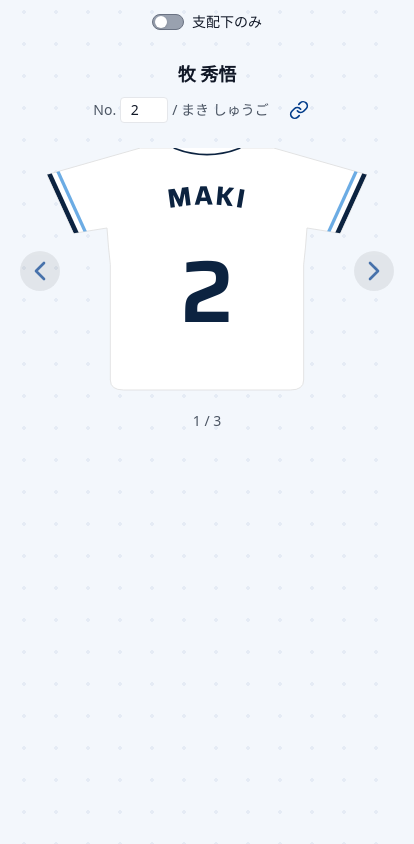
it: UniformViewer › navigates to previous player on left arrow click
Step 1. Click the button named "前の選手" → (110, 271), box top-left (12, 148), bottom-right (207, 395)
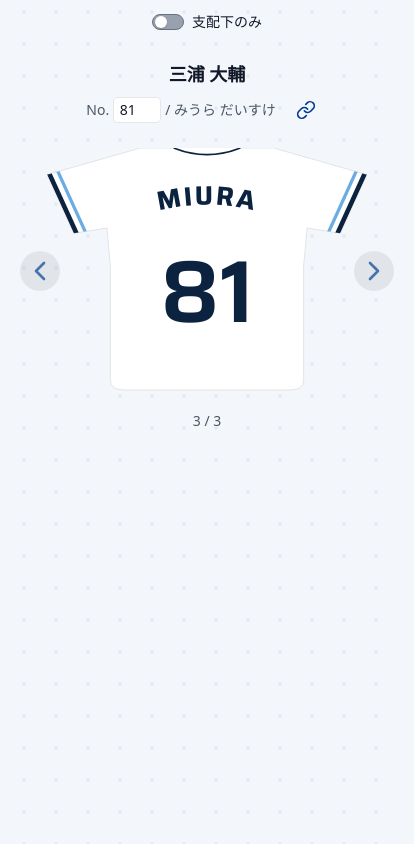
Result: the text "三浦 大輔" is shown at top-left (169, 62), bottom-right (245, 86)
